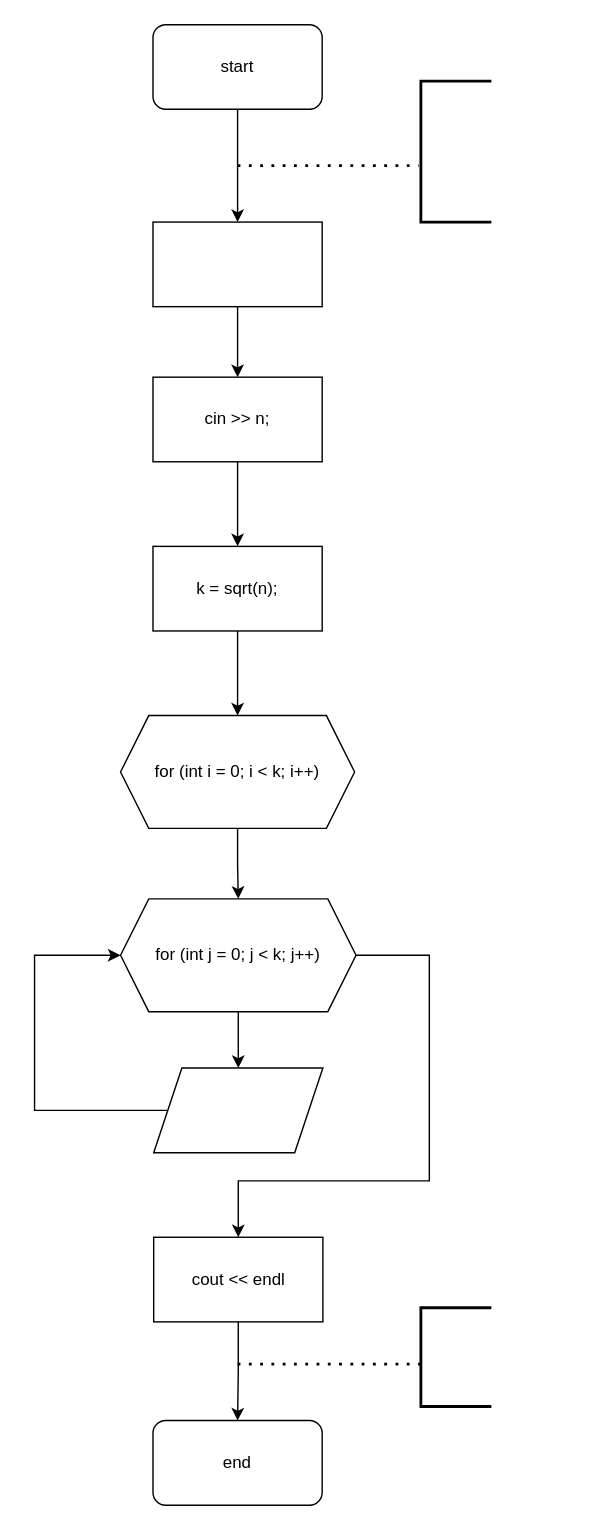
Image size: 613x1530. Some labels were removed from this diagram. The shapes that lost their labels are listed below. From the top down, each one's centre as x and y in pixels, then its label:
(x=455, y=151): #include <iostream> using namespace std; int main ()
(x=237, y=264): int n, k;
(x=237, y=1110): cout << "*";
(x=455, y=1356): return 0;
